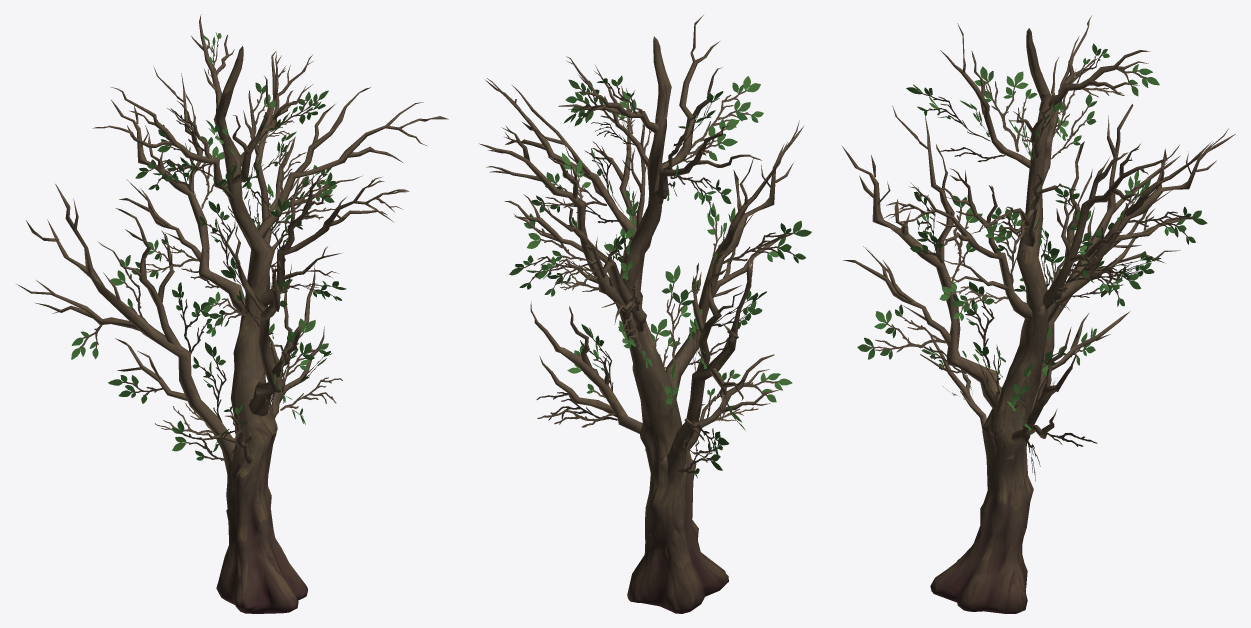
Rendered from SM_FW01_Tree_B_Dead_05.fbx.
3 views of the same model, side by side, from view 1: azimuth 30°, elevation 25°; view 2: azimuth 150°, elevation 25°; view 3: azimuth 270°, elevation 25° (orthographic). The views are drawn at different scales.
Visible parts, largest first — view 1: SM_FW01_Tree_B_Dead_05_LOD0; view 2: SM_FW01_Tree_B_Dead_05_LOD0; view 3: SM_FW01_Tree_B_Dead_05_LOD0.
Boxes of the visible parts, box(x1,y1,x2,y2) form: SM_FW01_Tree_B_Dead_05_LOD0: box(17, 14, 448, 613); SM_FW01_Tree_B_Dead_05_LOD0: box(479, 15, 811, 613); SM_FW01_Tree_B_Dead_05_LOD0: box(842, 16, 1235, 613).
Size of what is drawn, in the model's own units: 4.95 by 7.66 by 4.74.
